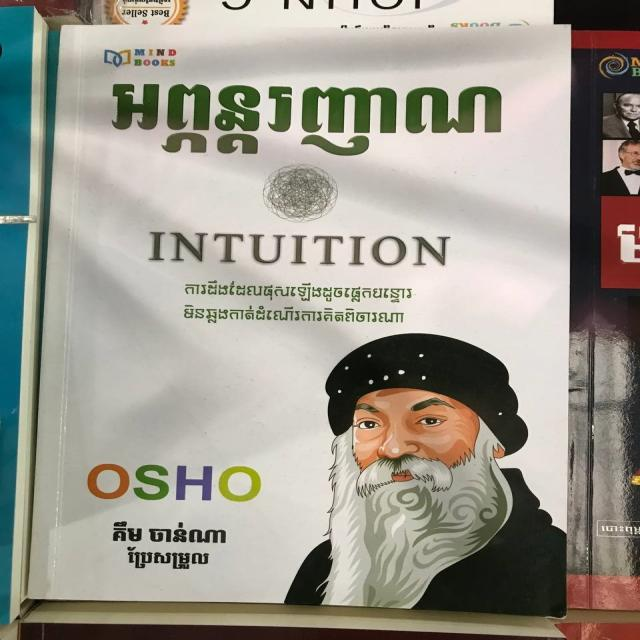1: (111, 520, 226, 547)
Yolov11kh: (106, 74, 507, 161), (183, 276, 419, 306), (179, 300, 409, 325), (120, 546, 214, 576)
